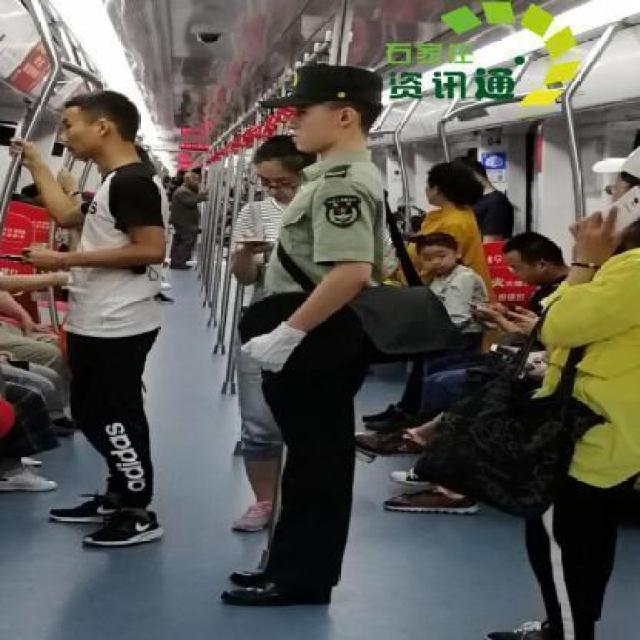No_Ear-Protection: (338, 105, 356, 129), (96, 117, 111, 139)
face_nomask: (285, 97, 343, 148), (52, 114, 102, 160), (421, 246, 457, 274)
hand_glove: (240, 328, 305, 375)
hand_noglove: (563, 208, 628, 266), (6, 134, 39, 171), (24, 245, 64, 272), (234, 232, 274, 257), (469, 302, 505, 328), (18, 318, 52, 342), (508, 308, 535, 335)
head_nohelmet: (292, 63, 392, 114), (246, 126, 306, 172), (64, 78, 136, 111), (427, 157, 470, 186), (497, 234, 538, 260), (412, 232, 457, 252)
person: (232, 70, 416, 616), (44, 61, 184, 557)
shoes: (222, 565, 336, 612), (83, 506, 166, 554), (382, 483, 482, 522), (48, 488, 130, 528), (230, 496, 278, 536)
